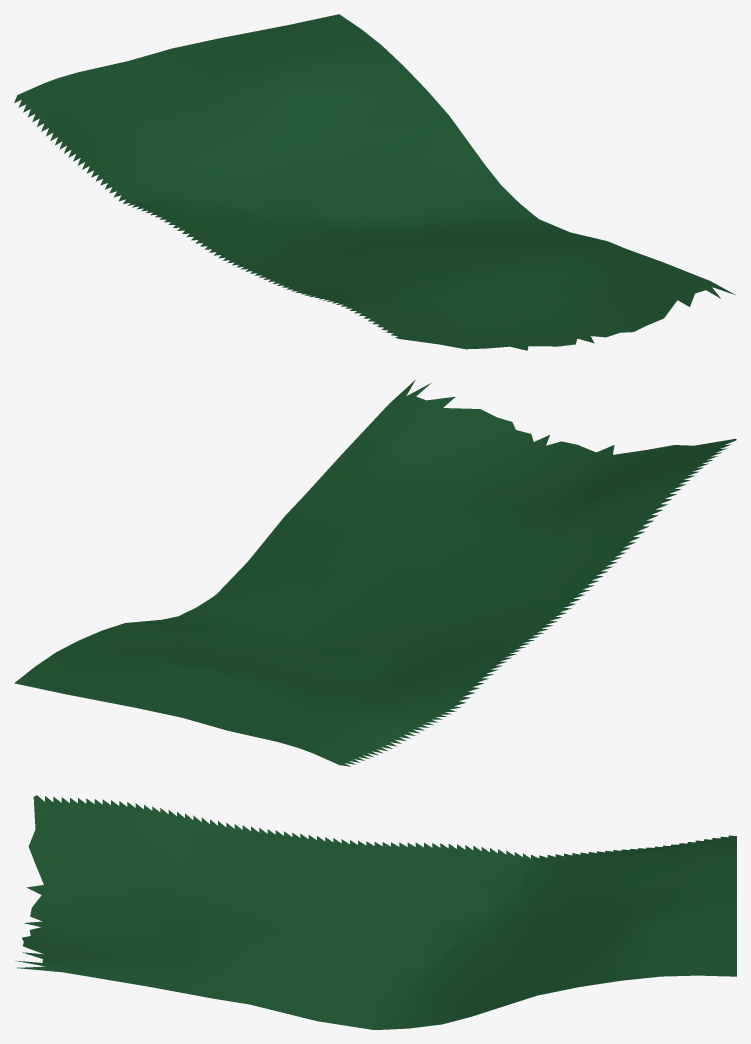
The model's file is payo_land_xm5_y3_lod1.glb.
The picture shows the model from 3 angles, top to bottom: view 1: azimuth 30°, elevation 25°; view 2: azimuth 150°, elevation 25°; view 3: azimuth 270°, elevation 25°; orthographic projection. The views are drawn at different scales.
Parts seen in each view (by area): view 1: payo_land_xm5_y3; view 2: payo_land_xm5_y3; view 3: payo_land_xm5_y3.
Part boxes in pixels (x1=…): payo_land_xm5_y3: x1=14, y1=14, x2=735, y2=350; payo_land_xm5_y3: x1=14, y1=379, x2=736, y2=766; payo_land_xm5_y3: x1=15, y1=795, x2=736, y2=1029.
Size of the model in its own units: 126 by 35.62 by 263.
